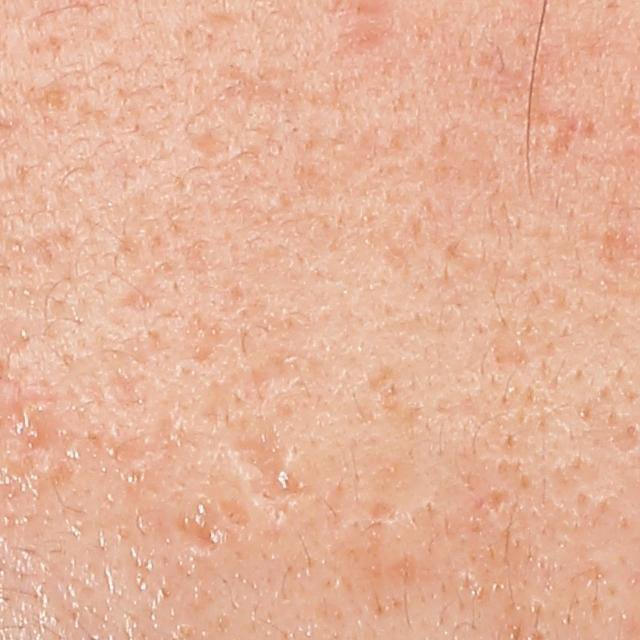atrophic_scar: (229, 415, 309, 524), (174, 500, 229, 558), (186, 387, 241, 444), (364, 497, 397, 519)
